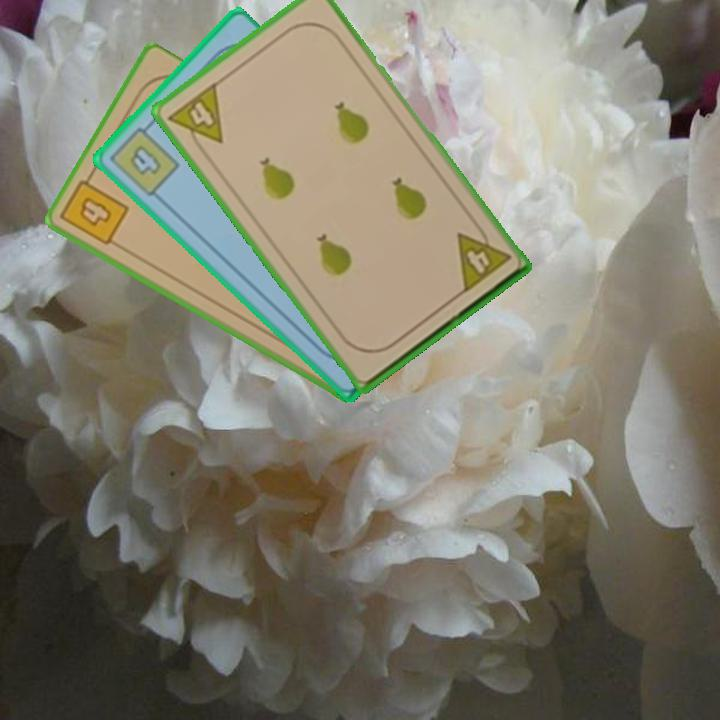4b: (105, 118, 183, 200), (57, 168, 132, 249)
4p: (164, 78, 226, 158), (452, 218, 514, 296)
